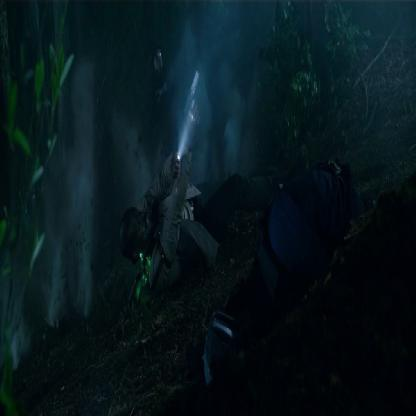Guns: (181, 64, 201, 122)
